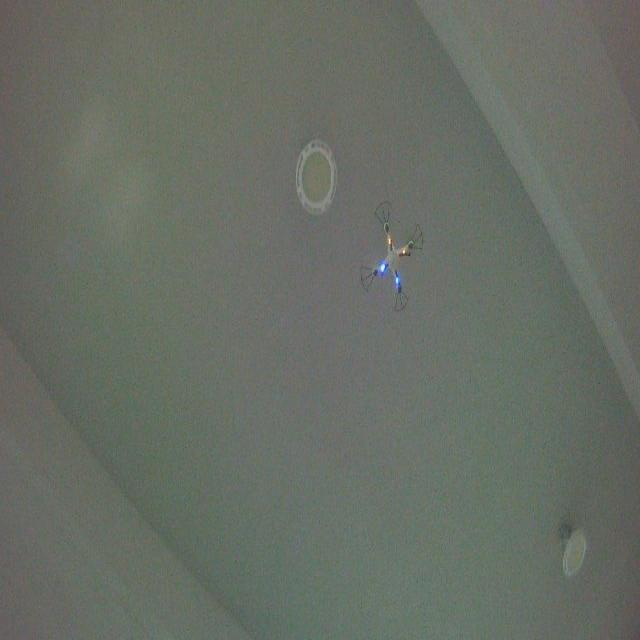drone: (358, 196, 427, 314)
